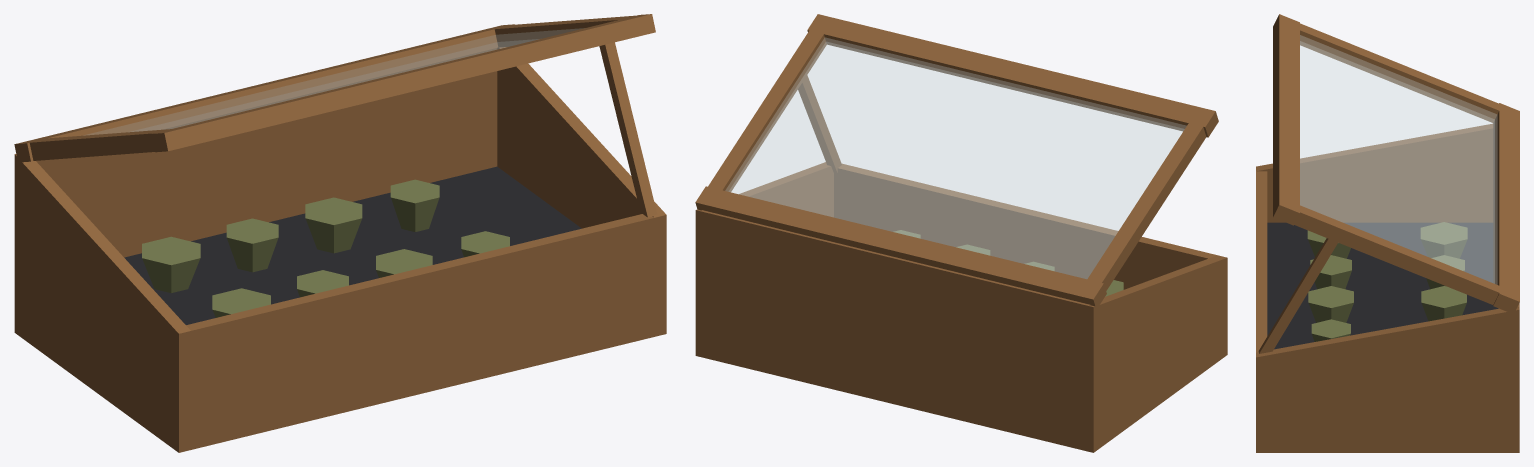
File: FN_Frame_Cold.glb
The picture shows the model from 3 angles, left to right: view 1: azimuth 30°, elevation 25°; view 2: azimuth 150°, elevation 25°; view 3: azimuth 270°, elevation 25°; orthographic projection. The views are drawn at different scales.
Parts seen in each view (by area): view 1: FN_Frame_Cold; view 2: FN_Frame_Cold; view 3: FN_Frame_Cold.
Boxes of the visible parts, bbox=[...] form: FN_Frame_Cold: bbox=[14, 14, 666, 452]; FN_Frame_Cold: bbox=[695, 14, 1227, 452]; FN_Frame_Cold: bbox=[1256, 14, 1519, 452].
Bounding box in the file's own units: 1.2 × 0.7273 × 0.7013.
2 materials, 1 textured.
